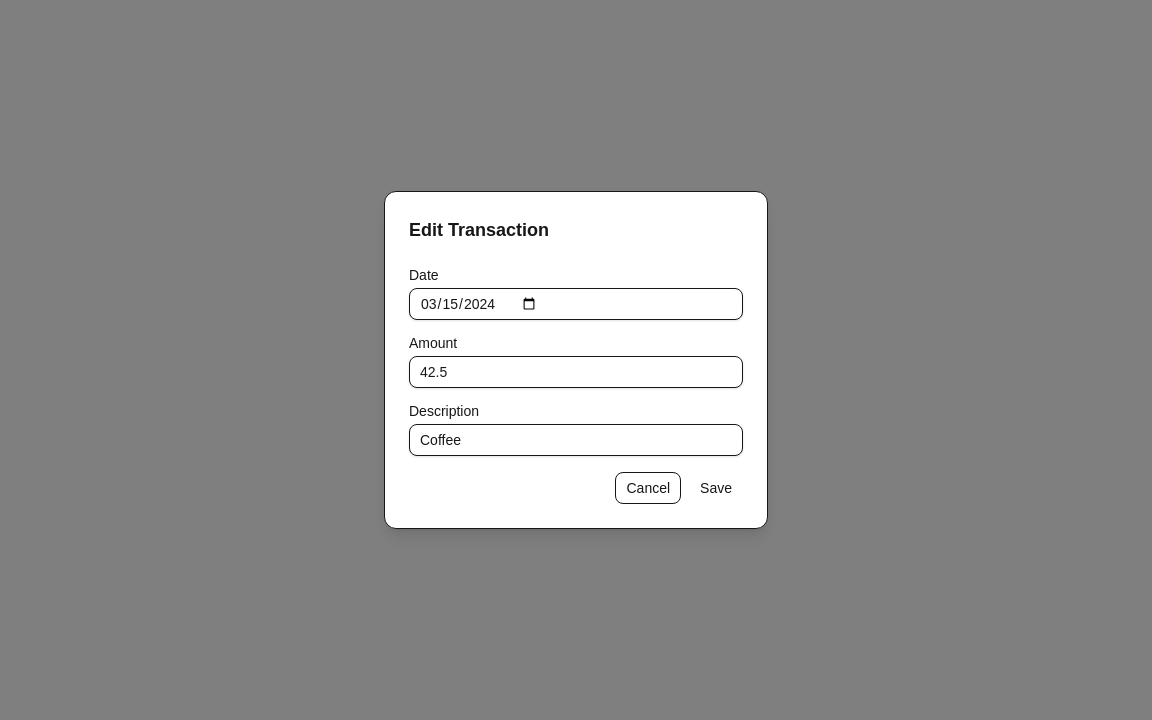
Test case: EditTransactionDialog container — validation › shows the date-required error when the date is empty on submit
Clear the date field labelled "Date" at [576, 304], box x1=409 y1=288 x2=743 y2=320
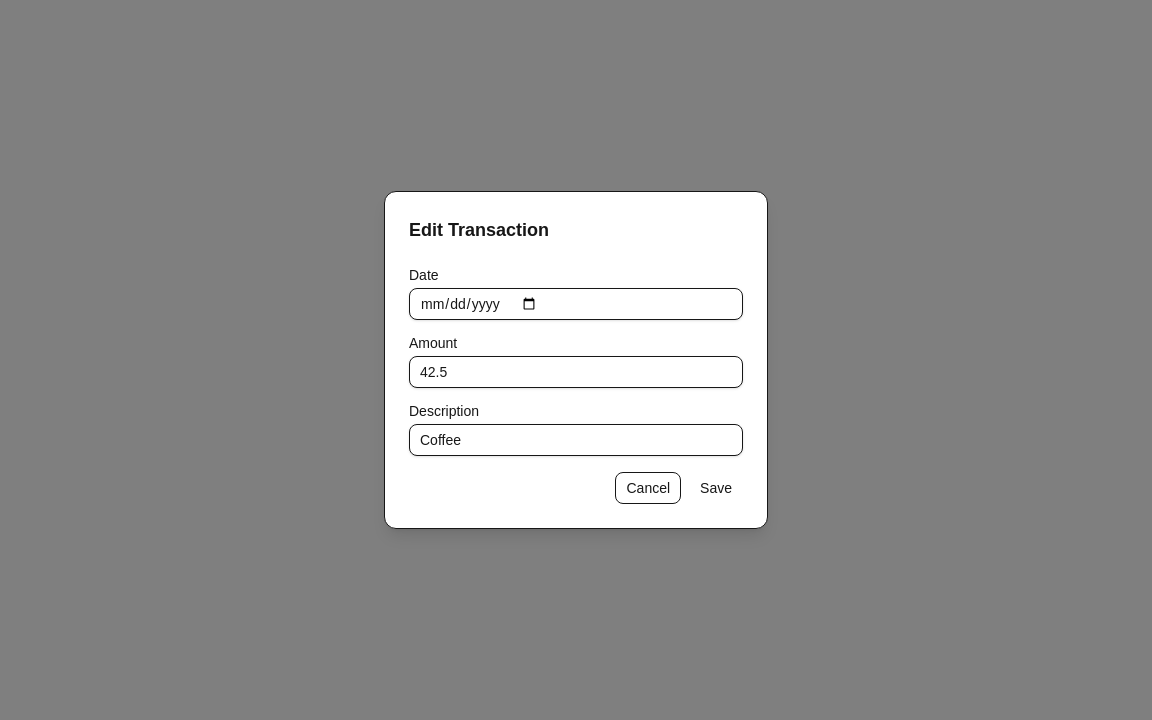
Click the button "Save" at [716, 488], box x1=689 y1=472 x2=743 y2=504
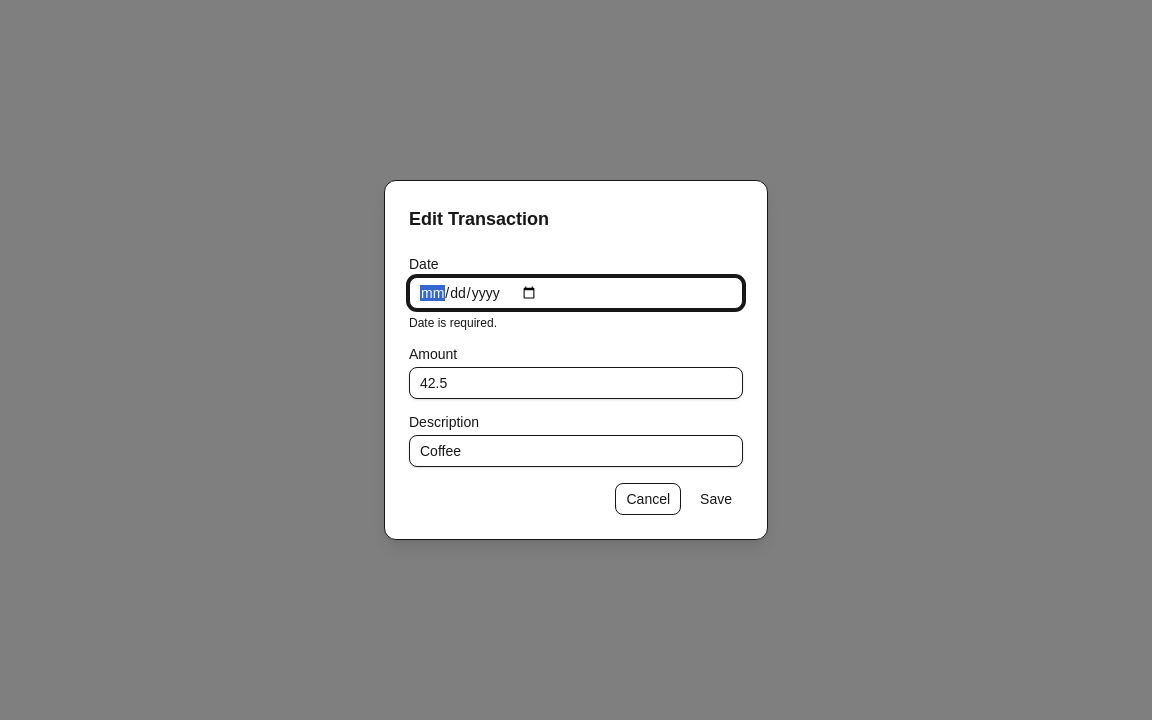
Expected: the text "Date is required." is shown, x1=409 y1=316 x2=497 y2=330
